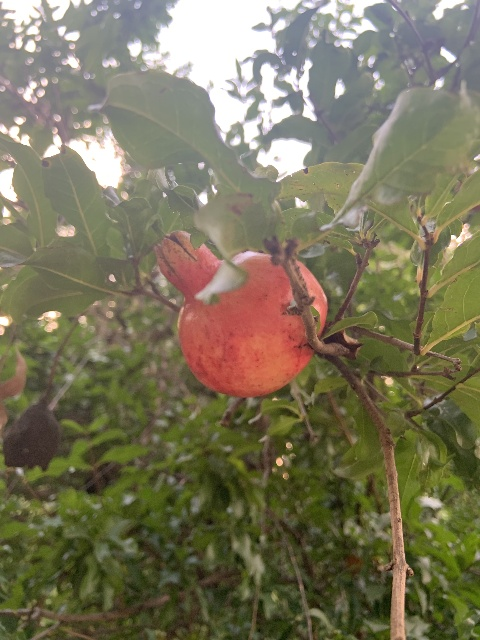ripe: (153, 230, 326, 397)
